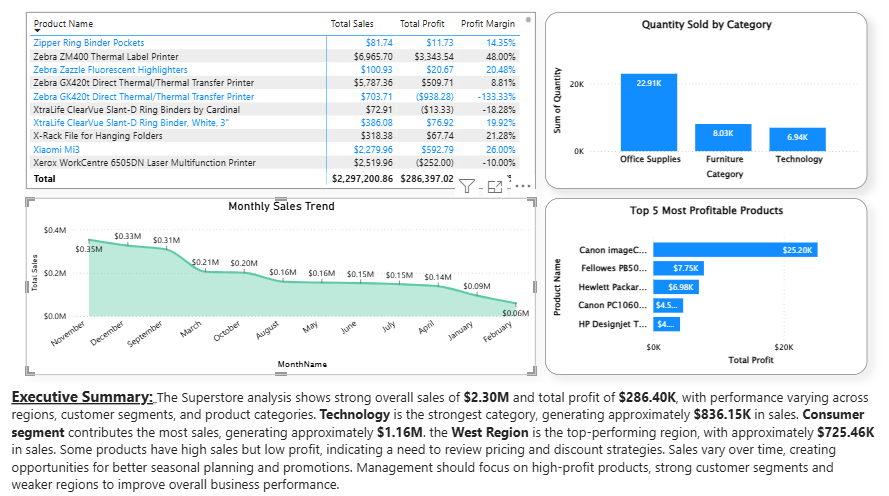

The page's visual inventory and layout, read from the dashboard file:
{"tool":"powerbi","page":{"name":"Dashboard 2","canvas":[1280,720],"ordinal":1},"visuals":[{"type":"pivotTable","fields":{"Values":["Date Table.Total Sales","Date Table.Total Profit","Date Table.Profit Margin"],"Rows":["Sample - Superstore.Product Name"]},"box":[42.4,25.8,728.8,253],"z":0},{"type":"lineChart","fields":{"Y":["Date Table.Total Sales"],"Category":["Date Table.MonthName"]},"box":[42.9,292.4,728.8,253],"z":1000},{"type":"clusteredColumnChart","title":"Quantity Sold by Category","fields":{"Category":["Sample - Superstore.Category"],"Y":["Sum(Sample - Superstore.Quantity)"]},"box":[785.4,25.8,460.6,253],"z":2000},{"type":"textbox","box":[16.7,554.5,1243.9,165.2],"z":3000},{"type":"clusteredBarChart","title":"Top 5 Most Profitable Products","fields":{"Category":["Sample - Superstore.Product Name"],"Y":["Date Table.Total Profit"]},"box":[785.4,292.4,460.6,253],"z":4000}]}

Visuals, with their boxes in screenshot pixels (x1, y1, x2, y2), scaled from the page's 1280x720 canvas onto the 889x496 screenshot:
pivotTable - Date Table.Total Sales x Date Table.Total Profit: bbox=(29, 18, 536, 192)
lineChart - Date Table.Total Sales x Date Table.MonthName: bbox=(30, 201, 536, 376)
"Quantity Sold by Category" clusteredColumnChart: bbox=(545, 18, 865, 192)
textbox: bbox=(12, 382, 876, 495)
"Top 5 Most Profitable Products" clusteredBarChart: bbox=(545, 201, 865, 376)
